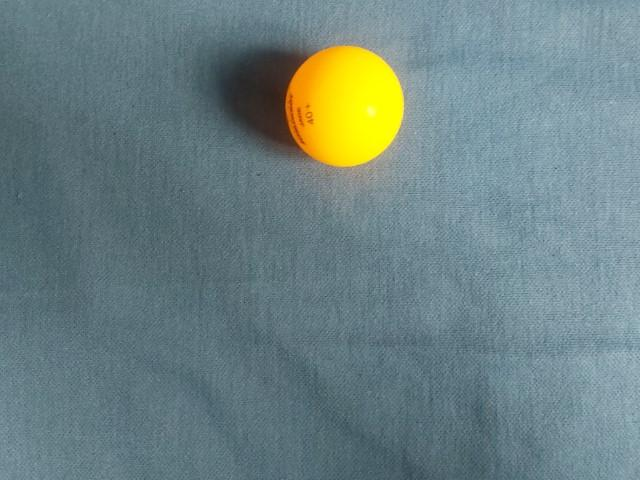oball: (227, 310, 362, 441)
